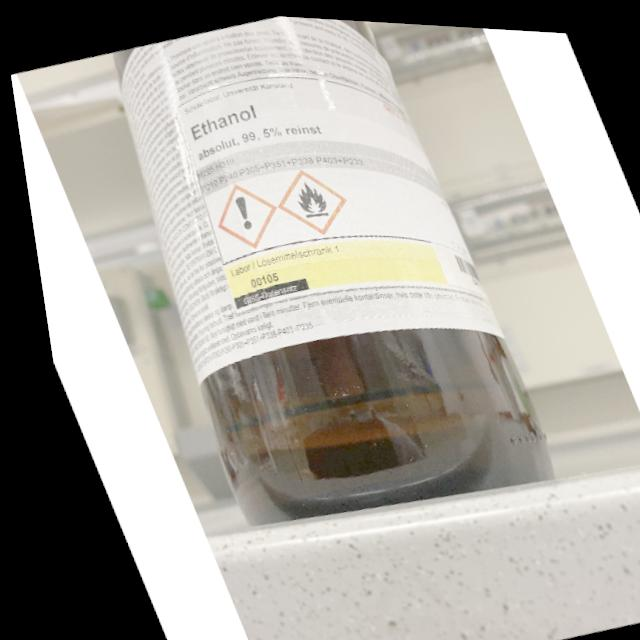flammable: (284, 174, 325, 218)
health-ozone layer hazard: (225, 192, 249, 227)
